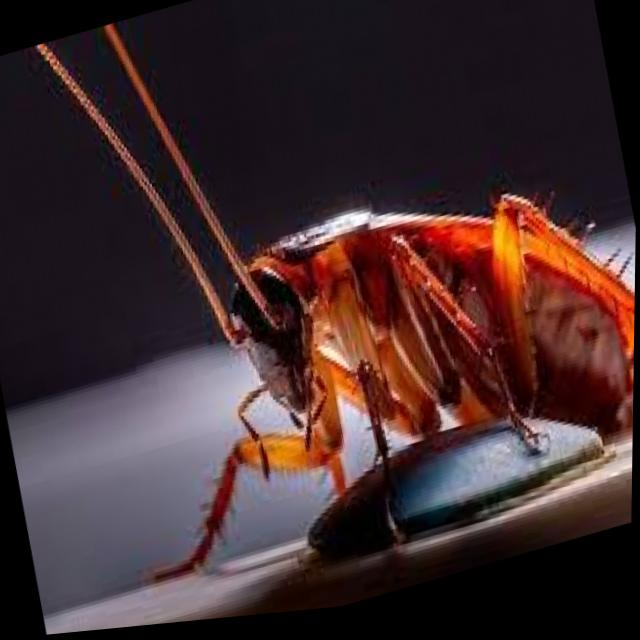Cockroach: (14, 0, 640, 637)
